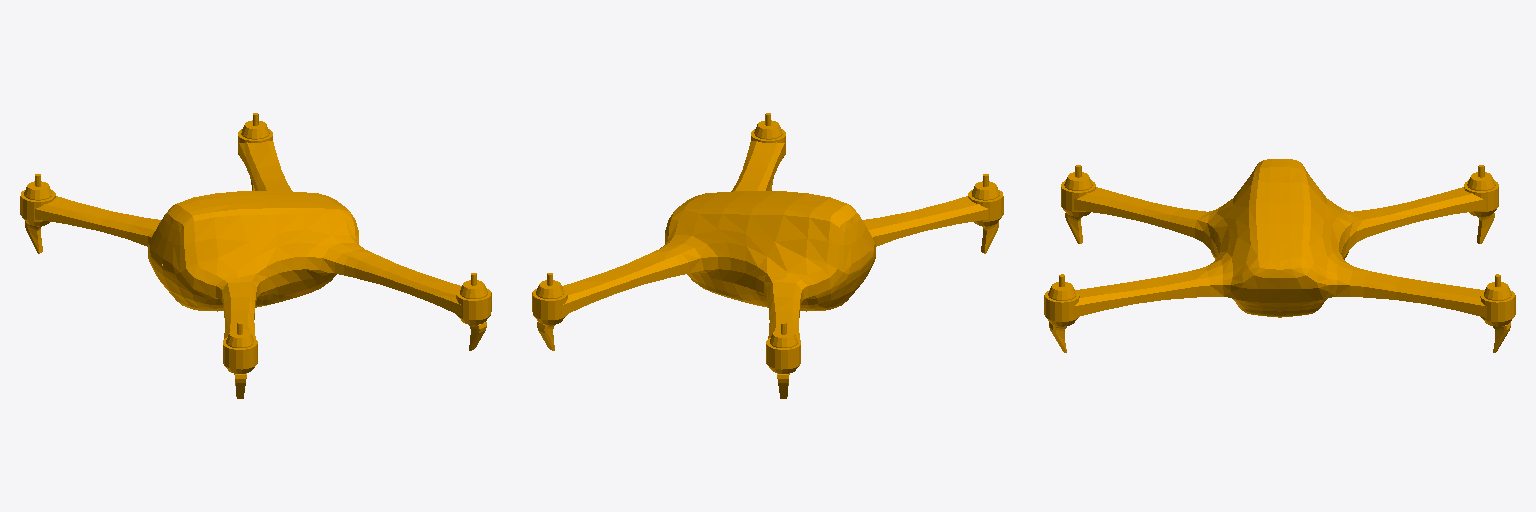
The robot description file, URDF, robot "X3":
<?xml version='1.0' encoding='utf-8'?>
<robot name='X3'>
  <link name='tunnel_qual_ign/X3/base_link'>
    <inertial>
      <origin xyz='0 0 0' rpy='0 -0 0'/>
      <mass value='1.5'/>
      <inertia ixx='0.0347563' ixy='0' ixz='0' iyy='0.07' iyz='0' izz='0.0977'/>
    </inertial>
    <collision name='base_link_inertia_collision'>
      <origin xyz='0 0 0' rpy='0 -0 0'/>
      <geometry>
        <box size='0.47 0.47 0.11'/>
      </geometry>
    </collision>
    <visual name='base_link_inertia_visual'>
      <origin xyz='0 0 0' rpy='0 -0 0'/>
      <geometry>
        <mesh filename='package://x3_description/meshes/x3.dae' scale='1 1 1'/>
      </geometry>
    </visual>
  </link>
  <sensor name='imu_sensor' update_rate='1000'>
    <parent link='tunnel_qual_ign/X3/base_link'/>
    <origin xyz='0 0 0' rpy='0 -0 0'/>
  </sensor>
  <link name='tunnel_qual_ign/X3/rotor_0'>
    <inertial>
      <origin xyz='0 0 0' rpy='0 -0 0'/>
      <mass value='0.005'/>
      <inertia ixx='9.75e-07' ixy='0' ixz='0' iyy='4.17041e-05' iyz='0' izz='4.26041e-05'/>
    </inertial>
    <collision name='rotor_0_collision'>
      <origin xyz='0 0 0' rpy='0 -0 0'/>
      <geometry>
        <cylinder radius='0.1' length='0.005'/>
      </geometry>
    </collision>
    <visual name='rotor_0_visual'>
      <origin xyz='0 0 0' rpy='0 -0 0'/>
      <geometry>
        <mesh filename='package://x3_description/meshes/propeller_ccw.dae' scale='0.1 0.1 0.1'/>
      </geometry>
    </visual>
  </link>
  <link name='tunnel_qual_ign/X3/rotor_1'>
    <inertial>
      <origin xyz='0 0 0' rpy='0 -0 0'/>
      <mass value='0.005'/>
      <inertia ixx='9.75e-07' ixy='0' ixz='0' iyy='4.17041e-05' iyz='0' izz='4.26041e-05'/>
    </inertial>
    <collision name='rotor_1_collision'>
      <origin xyz='0 0 0' rpy='0 -0 0'/>
      <geometry>
        <cylinder radius='0.1' length='0.005'/>
      </geometry>
    </collision>
    <visual name='rotor_1_visual'>
      <origin xyz='0 0 0' rpy='0 -0 0'/>
      <geometry>
        <mesh filename='package://x3_description/meshes/propeller_ccw.dae' scale='0.1 0.1 0.1'/>
      </geometry>
    </visual>
  </link>
  <link name='tunnel_qual_ign/X3/rotor_2'>
    <inertial>
      <origin xyz='0 0 0' rpy='0 -0 0'/>
      <mass value='0.005'/>
      <inertia ixx='9.75e-07' ixy='0' ixz='0' iyy='4.17041e-05' iyz='0' izz='4.26041e-05'/>
    </inertial>
    <collision name='rotor_2_collision'>
      <origin xyz='0 0 0' rpy='0 -0 0'/>
      <geometry>
        <cylinder radius='0.1' length='0.005'/>
      </geometry>
    </collision>
    <visual name='rotor_2_visual'>
      <origin xyz='0 0 0' rpy='0 -0 0'/>
      <geometry>
        <mesh filename='package://x3_description/meshes/propeller_cw.dae' scale='0.1 0.1 0.1'/>
      </geometry>
    </visual>
  </link>
  <link name='tunnel_qual_ign/X3/rotor_3'>
    <inertial>
      <origin xyz='0 0 0' rpy='0 -0 0'/>
      <mass value='0.005'/>
      <inertia ixx='9.75e-07' ixy='0' ixz='0' iyy='4.17041e-05' iyz='0' izz='4.26041e-05'/>
    </inertial>
    <collision name='rotor_3_collision'>
      <origin xyz='0 0 0' rpy='0 -0 0'/>
      <geometry>
        <cylinder radius='0.1' length='0.005'/>
      </geometry>
    </collision>
    <visual name='rotor_3_visual'>
      <origin xyz='0 0 0' rpy='0 -0 0'/>
      <geometry>
        <mesh filename='package://x3_description/meshes/propeller_cw.dae' scale='0.1 0.1 0.1'/>
      </geometry>
    </visual>
  </link>
  <joint name='rotor_0_joint' type='revolute'>
    <origin xyz='0.13 -0.22 0.023' rpy='0 -0 0'/>
    <parent link='tunnel_qual_ign/X3/base_link'/>
    <child link='tunnel_qual_ign/X3/rotor_0'/>
    <dynamics damping='0' friction='0' />
    <axis xyz='0 0 1'/>
    <limit lower='-1e+16' upper='1e+16' effort='-1' velocity='-1'/>
  </joint>
  <joint name='rotor_1_joint' type='revolute'>
    <origin xyz='-0.13 0.2 0.023' rpy='0 -0 0'/>
    <parent link='tunnel_qual_ign/X3/base_link'/>
    <child link='tunnel_qual_ign/X3/rotor_1'/>
    <dynamics damping='0' friction='0' />
    <axis xyz='0 0 1'/>
    <limit lower='-1e+16' upper='1e+16' effort='-1' velocity='-1'/>
  </joint>
  <joint name='rotor_2_joint' type='revolute'>
    <origin xyz='0.13 0.22 0.023' rpy='0 -0 0'/>
    <parent link='tunnel_qual_ign/X3/base_link'/>
    <child link='tunnel_qual_ign/X3/rotor_2'/>
    <dynamics damping='0' friction='0' />
    <axis xyz='0 0 1'/>
    <limit lower='-1e+16' upper='1e+16' effort='-1' velocity='-1'/>
  </joint>
  <joint name='rotor_3_joint' type='revolute'>
    <origin xyz='-0.13 -0.2 0.023' rpy='0 -0 0'/>
    <parent link='tunnel_qual_ign/X3/base_link'/>
    <child link='tunnel_qual_ign/X3/rotor_3'/>
    <dynamics damping='0' friction='0' />
    <axis xyz='0 0 1'/>
    <limit lower='-1e+16' upper='1e+16' effort='-1' velocity='-1'/>
  </joint>
</robot>

--- Facts derived from the render (not from the file) ---
Views: 3 orthographic renders of the robot side by side, from view 1: azimuth 30°, elevation 25°; view 2: azimuth 150°, elevation 25°; view 3: azimuth 270°, elevation 25°.
Model X3 with 5 links and 4 joints (4 revolute), rooted at tunnel_qual_ign/X3/base_link, posed all joints at 0.
Links seen in each view (by area): view 1: tunnel_qual_ign/X3/base_link; view 2: tunnel_qual_ign/X3/base_link; view 3: tunnel_qual_ign/X3/base_link.
Link boxes in pixels (x1,y1,x2,y2): tunnel_qual_ign/X3/base_link: (20, 113, 491, 398); tunnel_qual_ign/X3/base_link: (532, 113, 1003, 398); tunnel_qual_ign/X3/base_link: (1044, 159, 1515, 352).
Bounding box of the posed robot: 0.2995 × 0.4778 × 0.1188 m (x, y, z).
Meshes: 3 distinct files referenced, 1 mesh visuals loaded (1 Collada DAE); not drawn: 4 (reference not matched to a file when rendering).